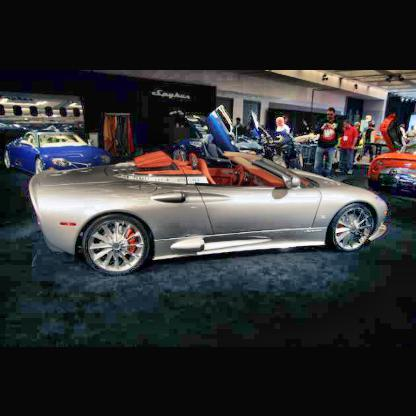Spyker C8 Convertible 2009: (29, 149, 390, 277)
